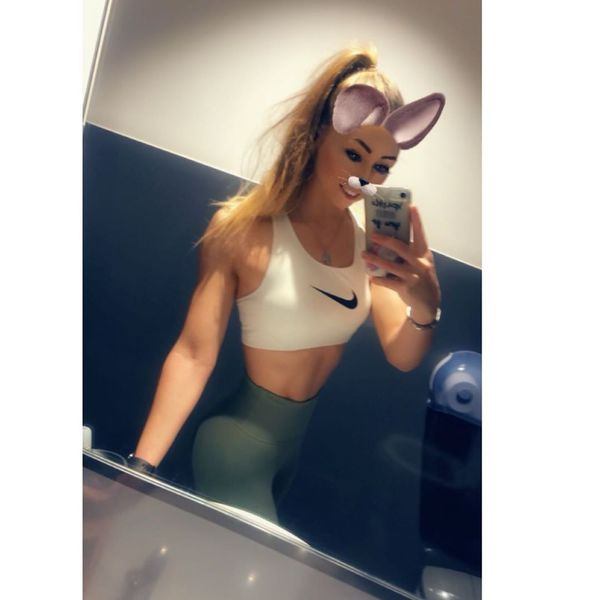nike: (310, 279, 362, 316)
